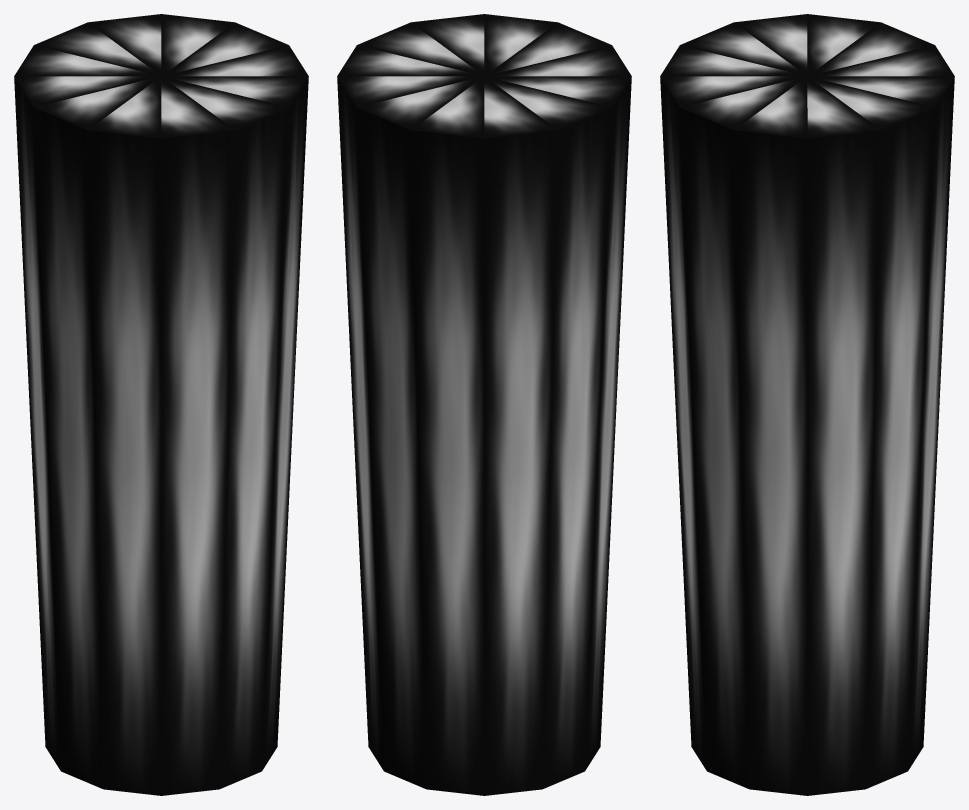
File: lavasteam.obj
3 renders of one model, left to right at view 1: azimuth 30°, elevation 25°; view 2: azimuth 150°, elevation 25°; view 3: azimuth 270°, elevation 25°, orthographic.
Parts seen in each view (by area): view 1: lavasteam; view 2: lavasteam; view 3: lavasteam.
Boxes of the visible parts, box(x1,y1,x2,y2) form: lavasteam: box(14, 14, 308, 795); lavasteam: box(337, 14, 631, 795); lavasteam: box(660, 14, 954, 795).
Bounding box in the file's own units: 20.25 × 50.83 × 20.25.
Materials: 1 (1 with a texture image).
